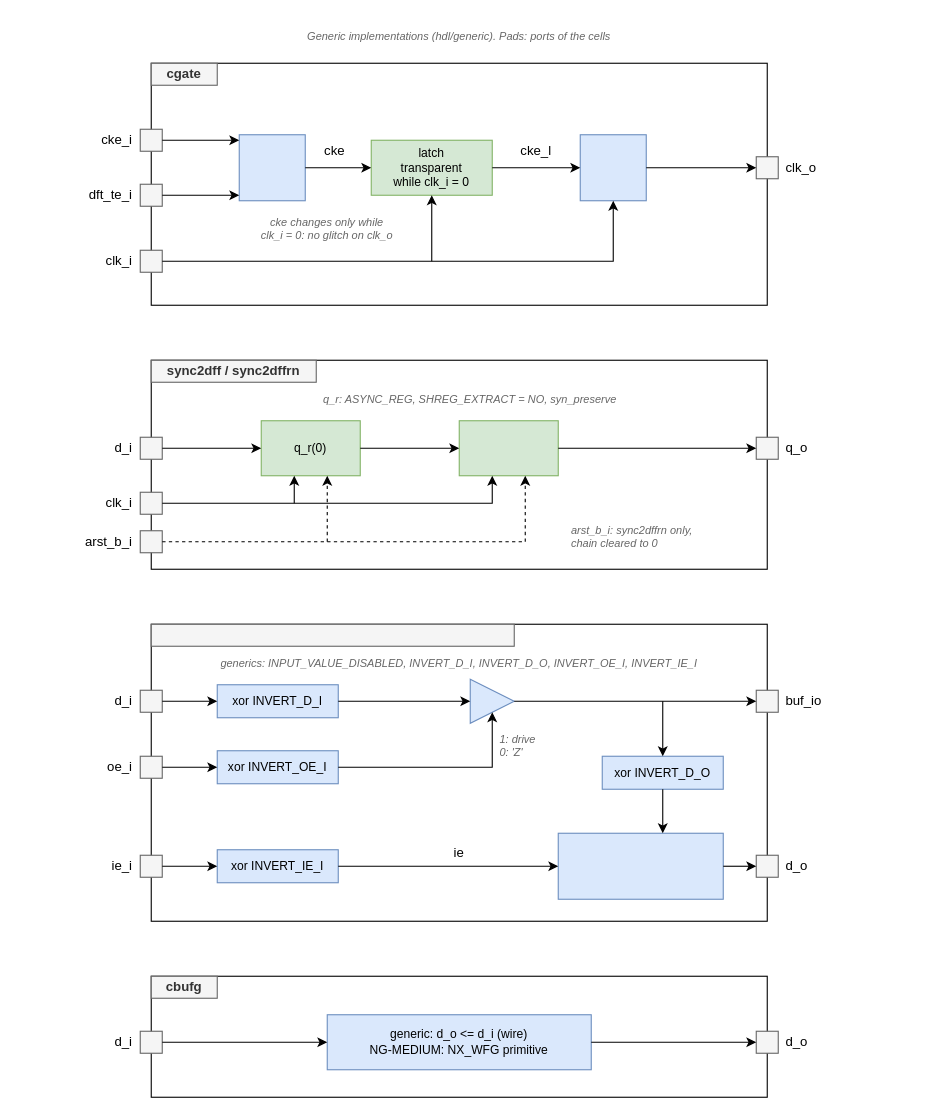
Image size: 934x1117. Some labels were removed from this diagram. The shapes that lost their labels are listed below. From the top down, each one's centre as x and y in pixels, then its label:
At (x=271, y=167): "or".
At (x=612, y=167): "and".
At (x=508, y=448): "q_r(1)".
At (x=332, y=634): "iobuf (ibuf: input path only, obuf: output path only)".
At (x=640, y=865): "mux ie = 1: pad ie = 0: INPUT_VALUE_DISABLED".
